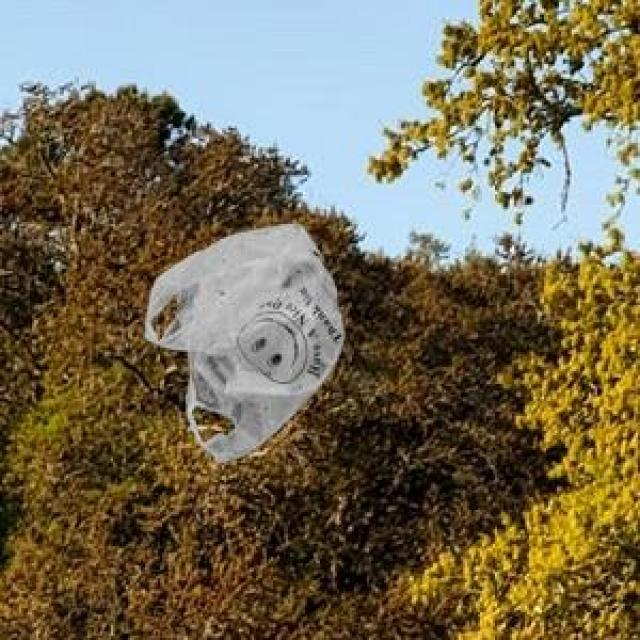plastic: (108, 191, 402, 475)
